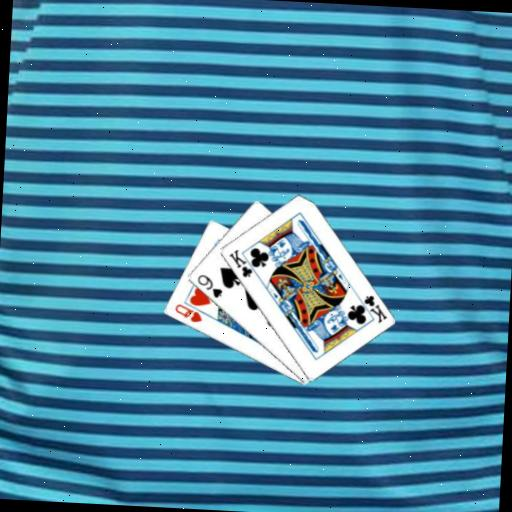9S: (194, 271, 225, 300)
KC: (224, 246, 261, 280), (353, 291, 390, 325)
QH: (171, 301, 204, 325)
